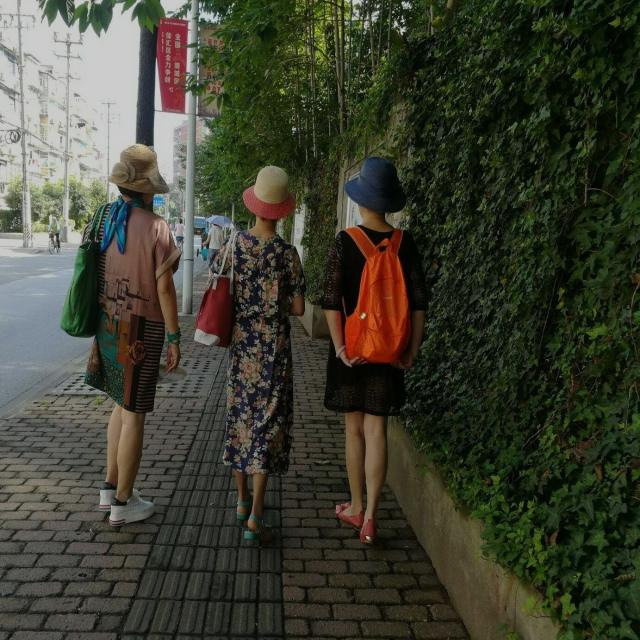non-fight: (62, 141, 183, 526), (193, 163, 308, 540), (319, 152, 427, 548)
